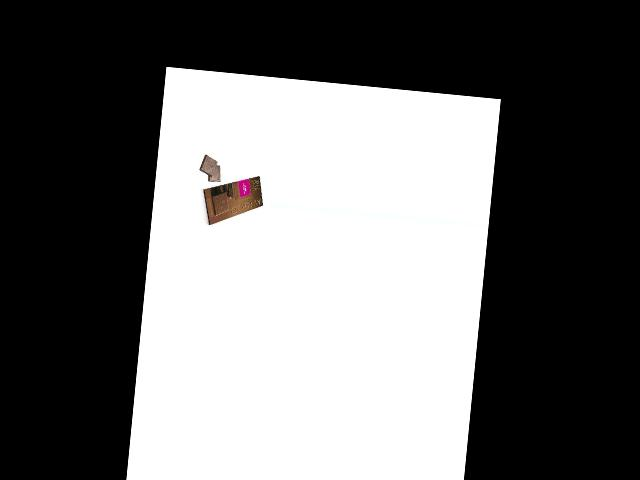chocolate: (198, 169, 266, 230)
